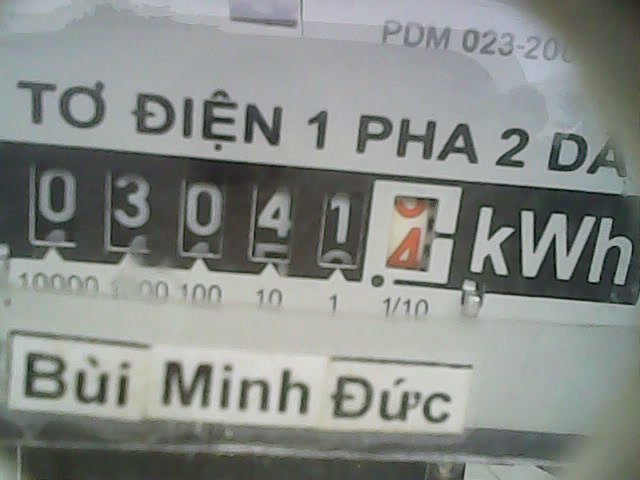phy_plate: (9, 139, 470, 292)
